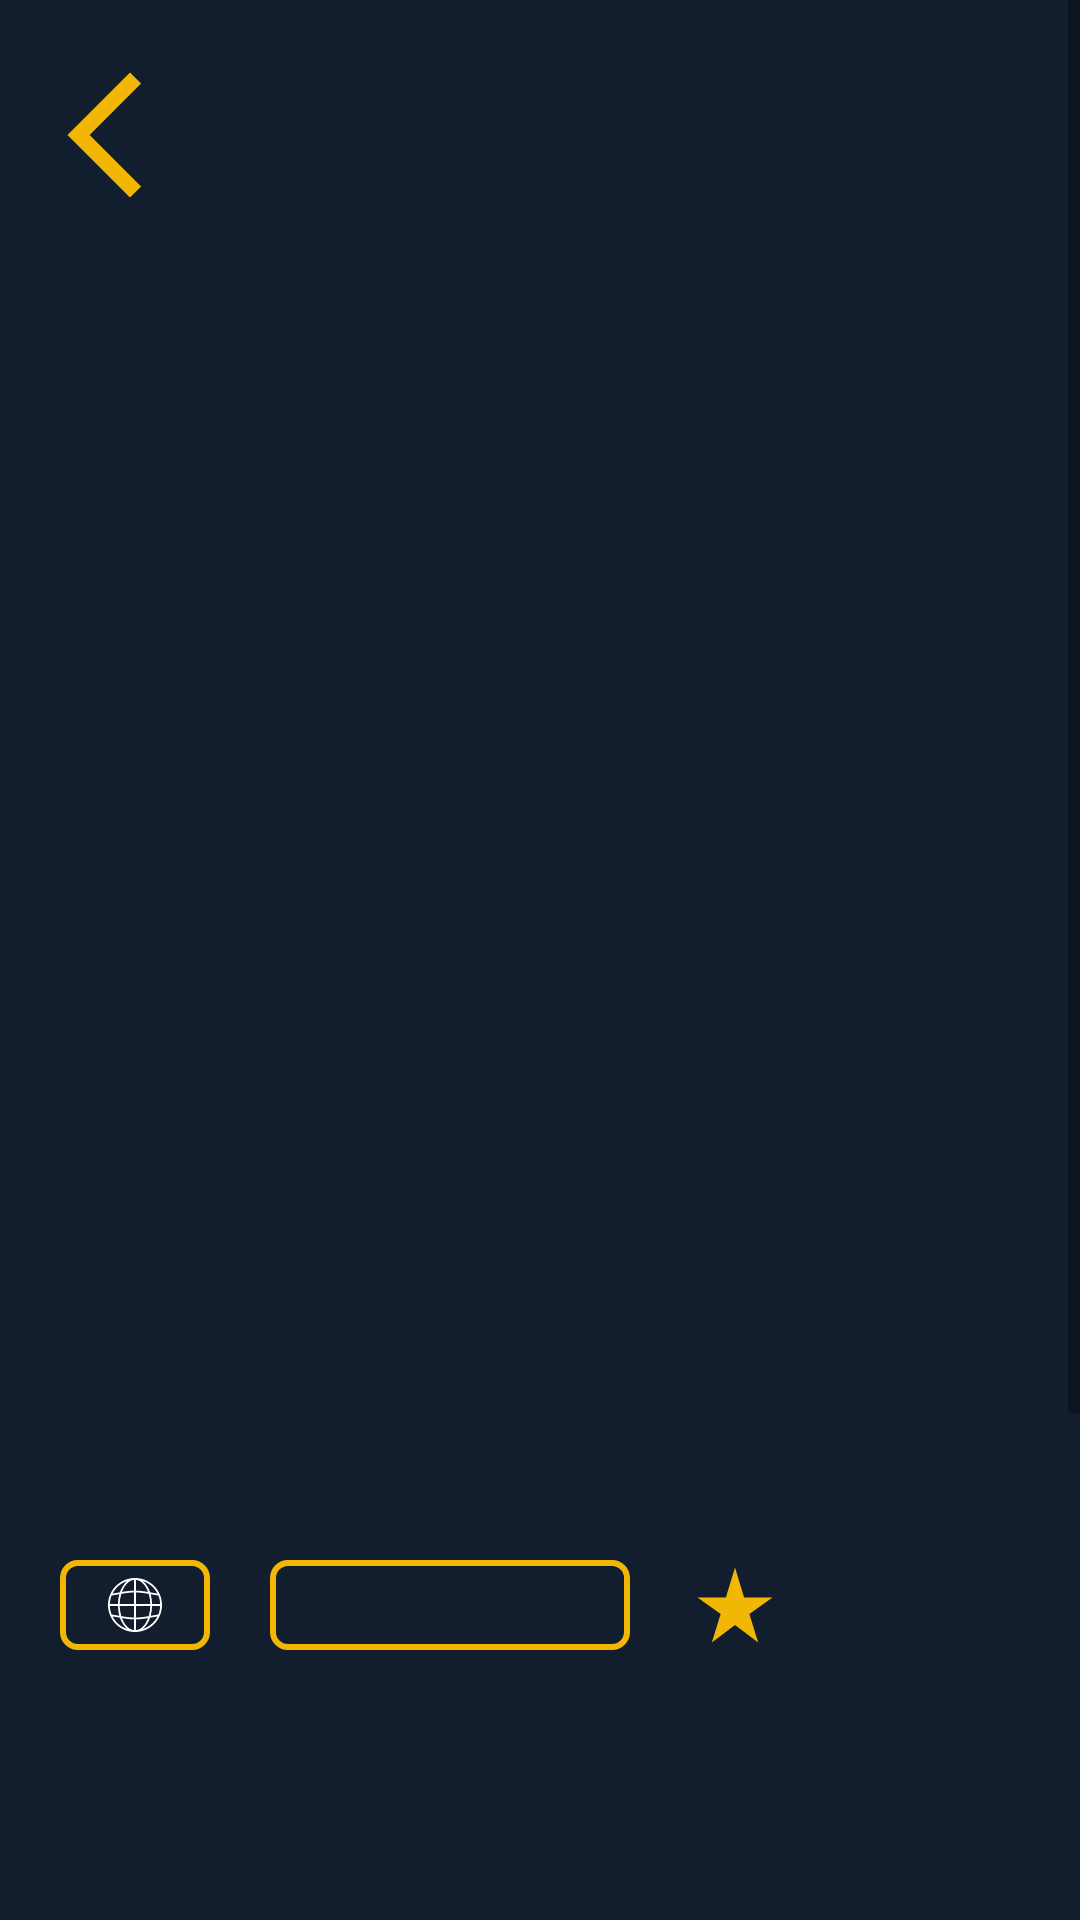

Named icons in this screenshot (1080px x 1920px) and their centers, (x=x, y=y):
backarrow: (x=104, y=135)
star rate: (x=735, y=1605)
